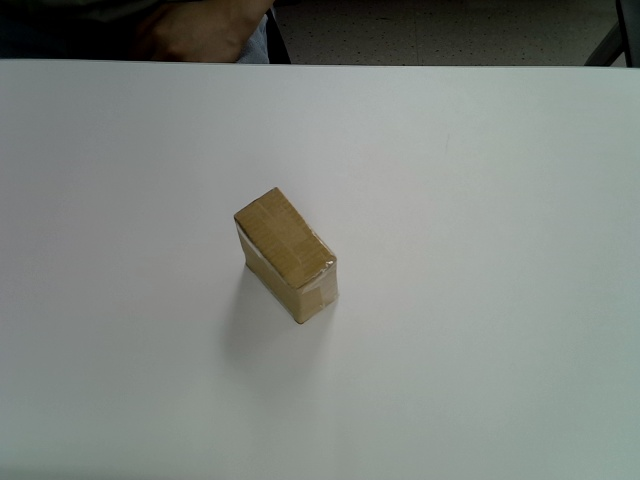normal: (234, 187, 340, 324)
